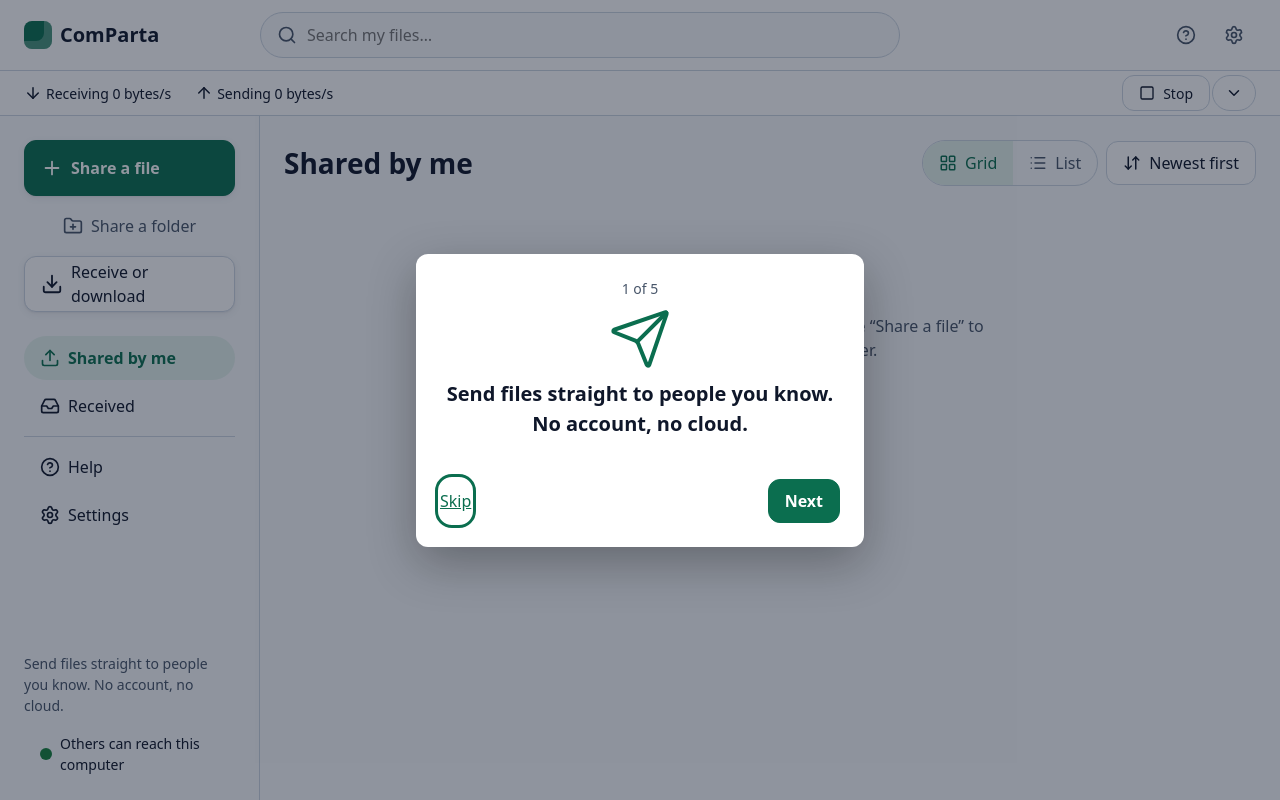
Test case: the first-run welcome › goes straight to the app when skipped, and changes nothing else
Click the button "Skip" at (456, 500), box x1=440 y1=478 x2=471 y2=522
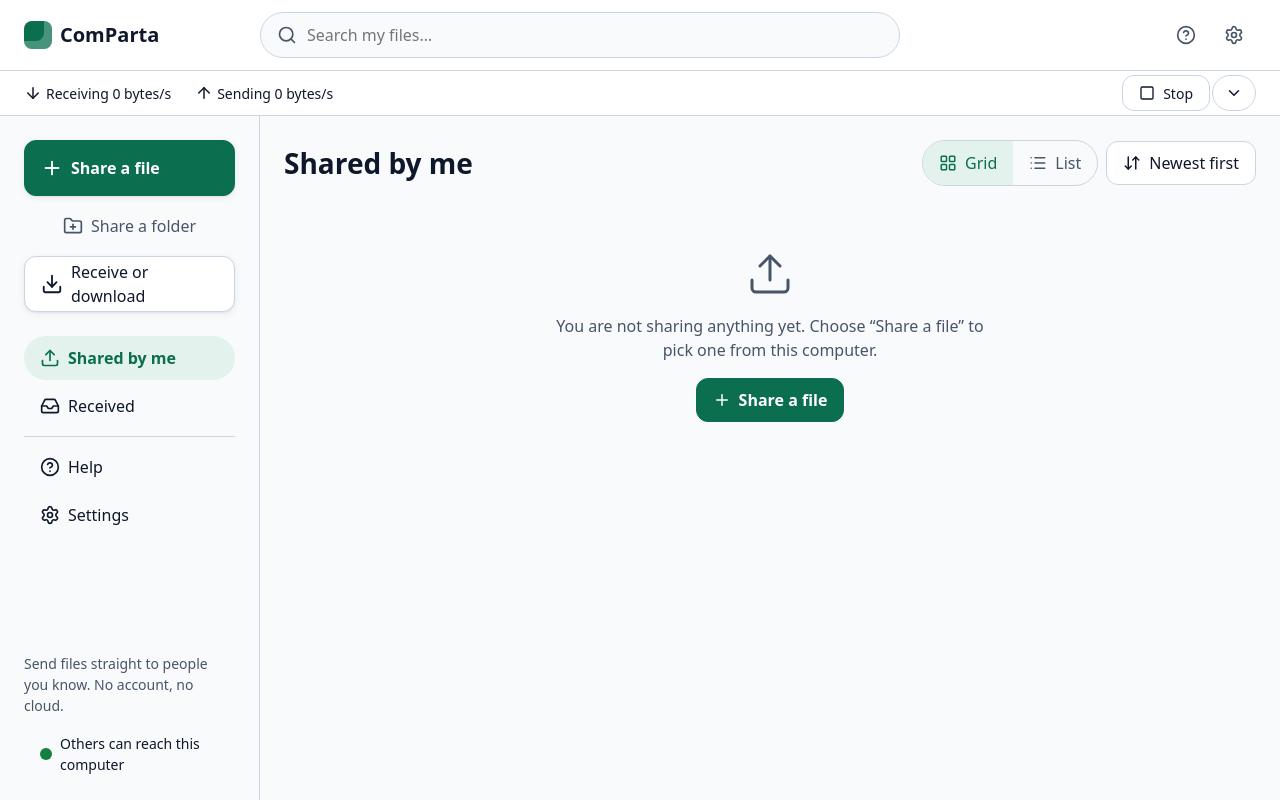
Now the dialog is gone
